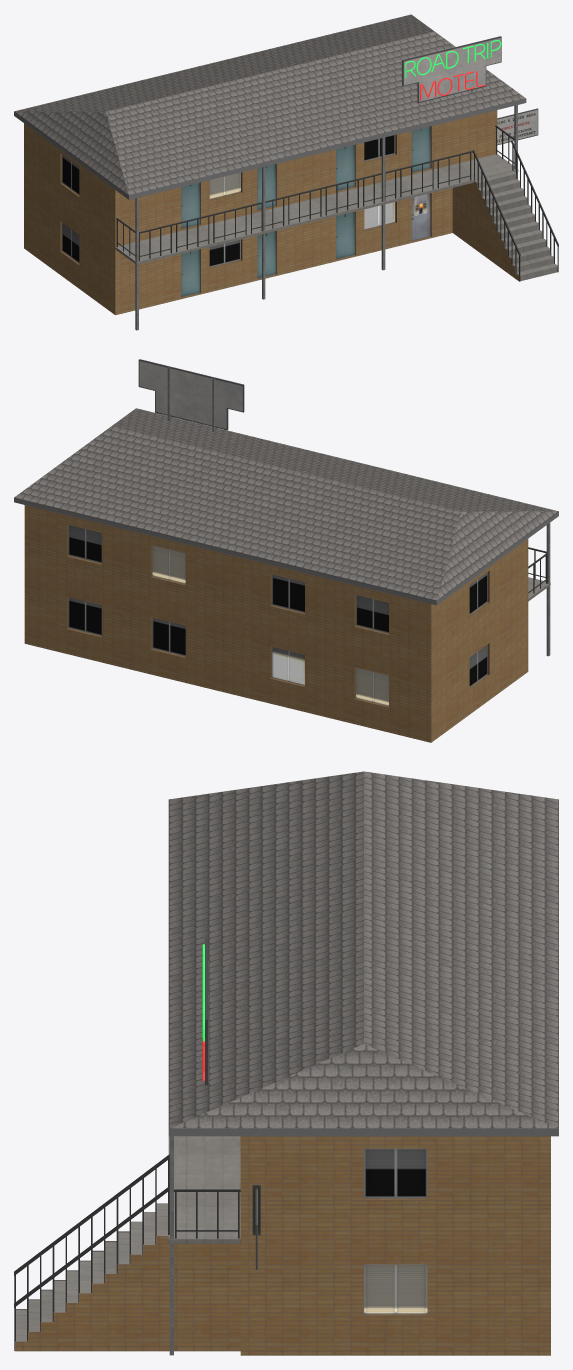
The model's file is motel_road_trip.glb.
3 views of the same model, one above another, from view 1: azimuth 30°, elevation 25°; view 2: azimuth 150°, elevation 25°; view 3: azimuth 270°, elevation 25° (orthographic). The views are drawn at different scales.
Visible parts, largest first — view 1: Cube, Plane, Plane.001, Stair, Cube.001, Fence, Stair.002, Stair.001, Cube.003, Text; view 2: Plane, Cube, Cube.001; view 3: Cube, Plane, Stair.002, Plane.001, Stair, Stair.001.
Part boxes in pixels (x1,y1,x2,y2): Cube: (14, 14, 526, 199); Plane: (24, 110, 497, 315); Plane.001: (115, 154, 518, 264); Stair: (474, 171, 557, 281); Cube.001: (402, 36, 501, 102); Fence: (139, 151, 473, 261); Stair.002: (452, 181, 519, 281); Stair.001: (473, 140, 558, 281); Cube.003: (497, 108, 538, 145); Text: (405, 40, 501, 100); Plane: (24, 505, 528, 742); Cube: (14, 408, 558, 605); Cube.001: (138, 359, 244, 430); Cube: (168, 771, 558, 1136); Plane: (240, 1136, 550, 1355); Stair.002: (15, 1236, 240, 1351); Plane.001: (168, 1136, 240, 1243); Stair: (15, 1203, 168, 1341); Stair.001: (14, 1154, 169, 1350).
Bounding box in the file's own units: 20.87 × 8.92 × 13.32.
1 material, 1 textured.
